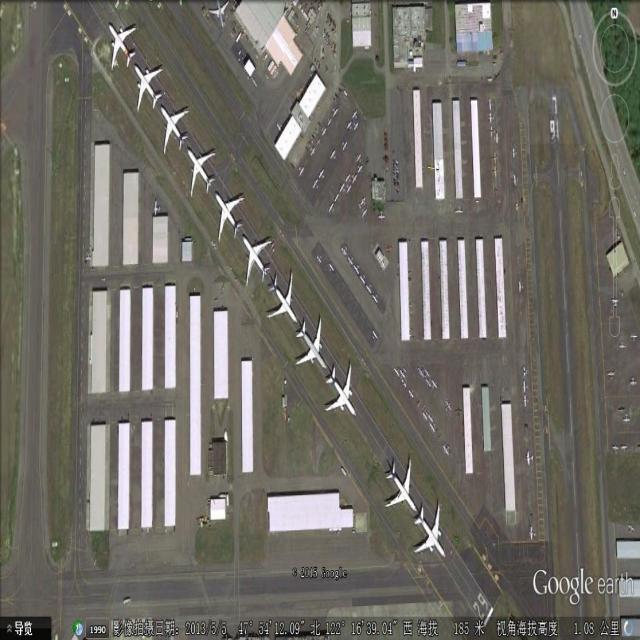aircraft: (412, 498, 448, 563), (240, 230, 277, 289), (385, 454, 419, 516), (324, 360, 359, 420), (264, 269, 299, 327), (293, 313, 328, 370), (186, 143, 220, 199), (133, 61, 165, 117), (159, 102, 191, 158), (108, 19, 139, 75), (215, 188, 246, 244), (209, 1, 232, 33), (443, 395, 455, 419), (528, 522, 540, 545), (525, 448, 537, 470), (490, 162, 501, 186), (377, 206, 388, 228), (521, 363, 532, 383), (318, 164, 328, 185), (371, 290, 381, 311), (327, 259, 338, 277), (430, 377, 441, 395), (606, 367, 617, 385), (338, 241, 350, 257), (609, 295, 621, 311), (627, 523, 637, 542), (519, 274, 527, 297), (340, 134, 349, 154), (442, 441, 451, 461), (451, 205, 466, 217), (630, 329, 640, 347), (426, 411, 437, 427), (491, 150, 502, 166), (621, 411, 632, 427), (512, 145, 521, 164), (416, 365, 426, 382), (523, 389, 531, 410), (486, 93, 494, 114), (487, 123, 495, 144), (298, 163, 307, 181), (360, 190, 369, 208), (371, 327, 380, 345), (493, 130, 502, 148), (621, 442, 631, 458), (338, 180, 347, 197), (512, 172, 521, 189), (629, 374, 638, 391), (611, 441, 619, 460), (618, 339, 628, 354), (354, 149, 363, 165), (316, 254, 325, 269), (365, 282, 374, 297), (407, 387, 416, 402), (354, 164, 365, 176), (350, 108, 360, 121), (359, 273, 369, 286), (353, 262, 361, 278), (321, 123, 328, 141), (334, 192, 343, 206), (485, 113, 496, 124), (328, 201, 336, 216), (393, 364, 401, 379), (424, 365, 432, 380), (309, 145, 318, 158), (429, 421, 438, 434), (346, 119, 354, 133), (330, 148, 338, 162), (351, 173, 359, 187), (347, 255, 355, 269), (331, 107, 340, 119), (313, 178, 321, 191), (327, 116, 334, 130), (347, 184, 354, 198), (522, 380, 529, 394), (421, 411, 428, 422), (346, 173, 352, 185), (427, 379, 432, 388)
